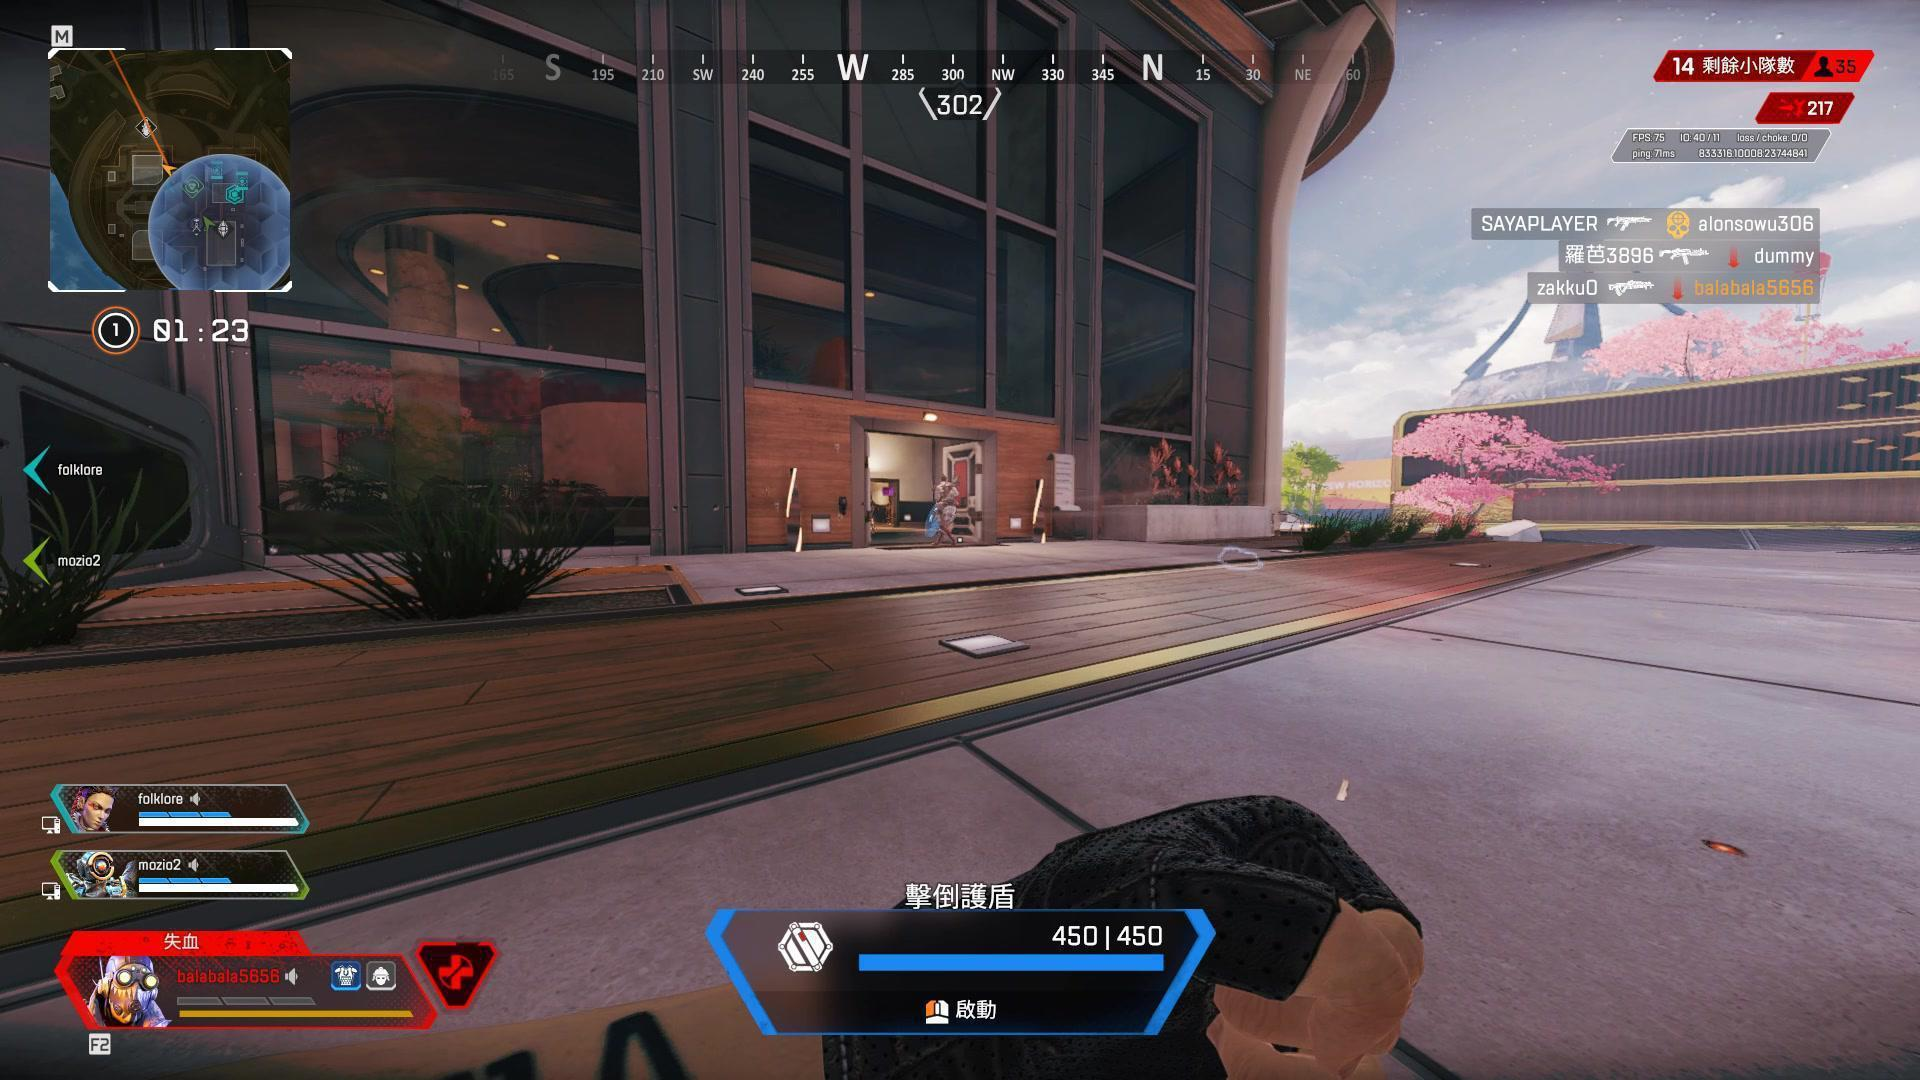avatar: (932, 472, 960, 547)
